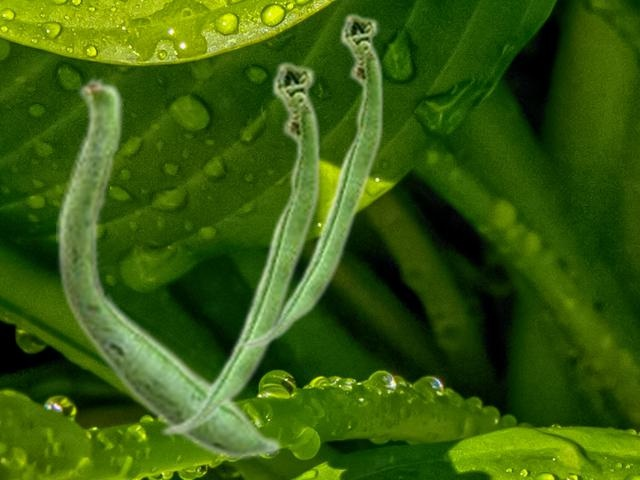french_bean: (56, 74, 281, 460), (160, 59, 320, 436), (239, 11, 383, 349)
